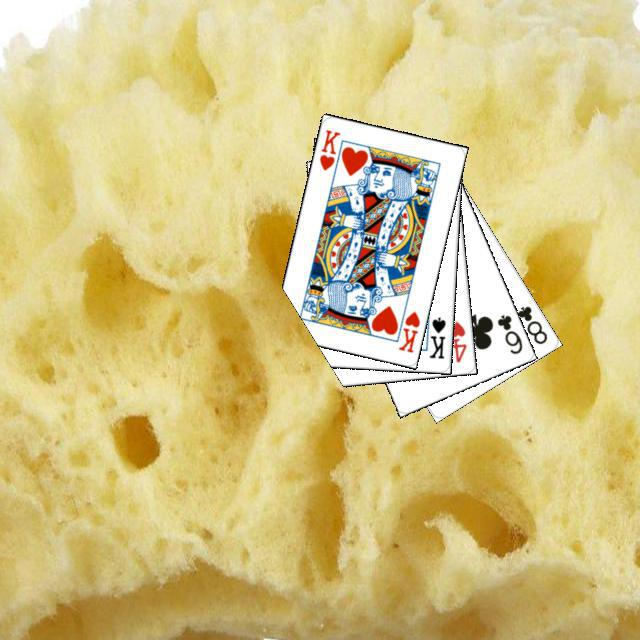4h: (445, 316, 468, 364)
6c: (492, 310, 524, 356)
8c: (513, 301, 549, 346)
Kh: (389, 300, 422, 354), (314, 124, 342, 172)
Ks: (424, 312, 447, 360)
